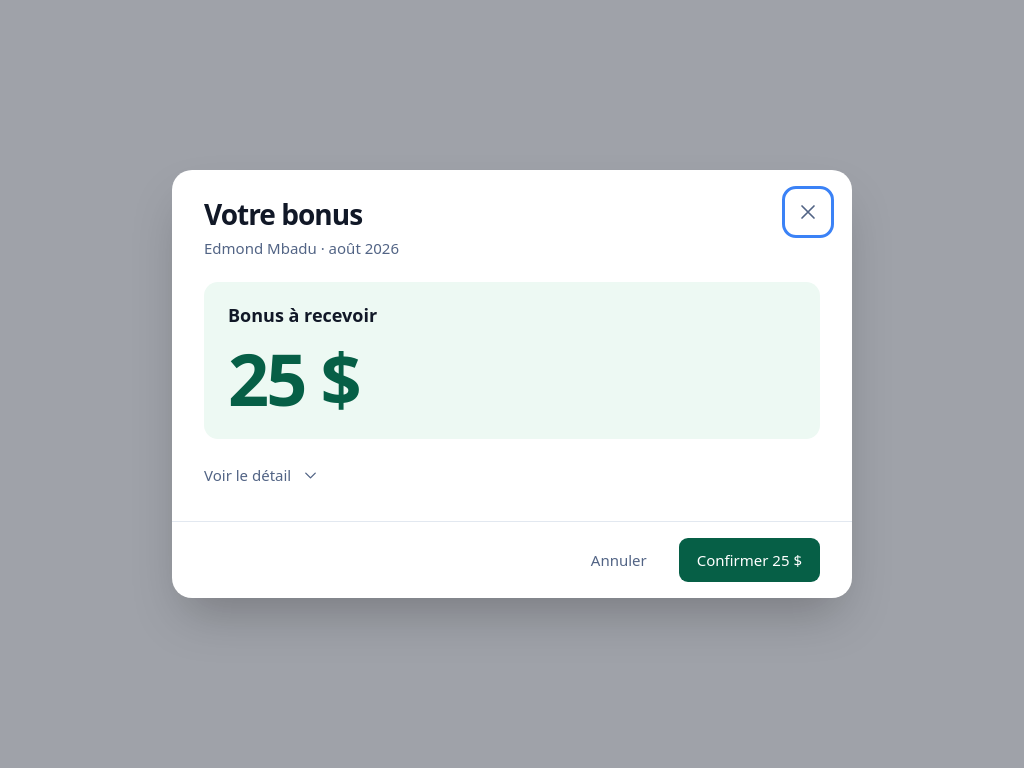
EmployeePaymentDialogComponent › shows an awarded performance amount even without a percentage and explains an empty bonus
The width and height of the screenshot is (1024, 768).
Click the button with class "details-toggle" at (262, 475), box [204, 453, 320, 497]
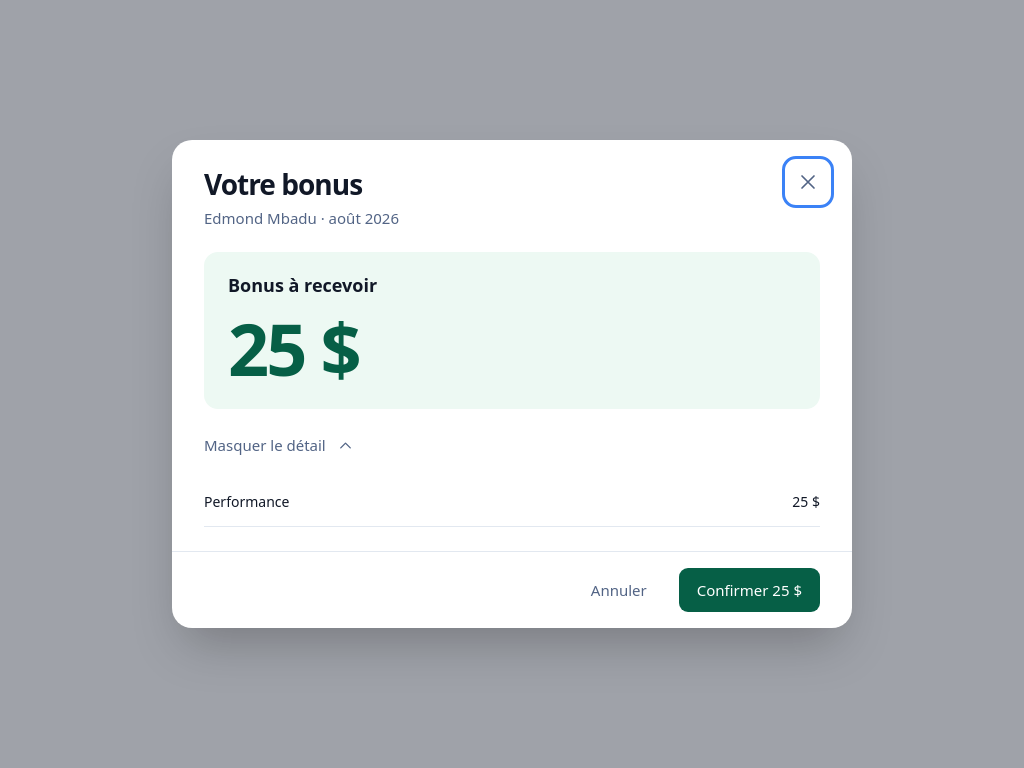
Expected: the text "Performance" is shown, [204, 491, 289, 512]
